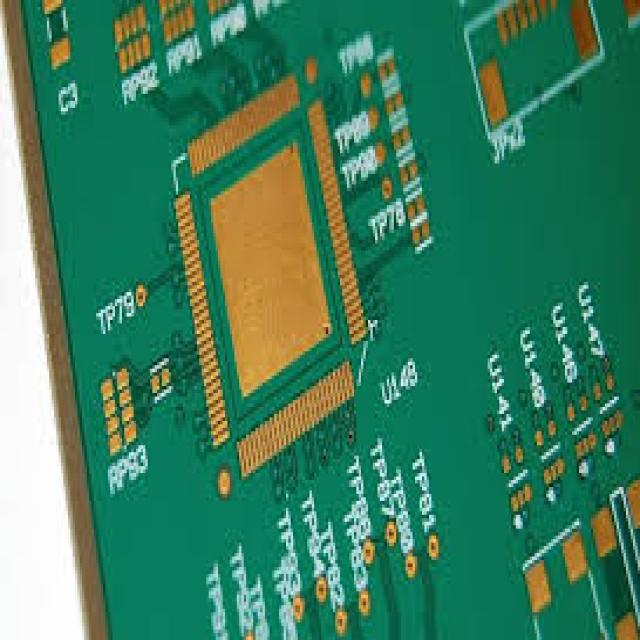pcb: (0, 0, 638, 637), (167, 73, 370, 484), (199, 132, 338, 400), (302, 24, 434, 275)
